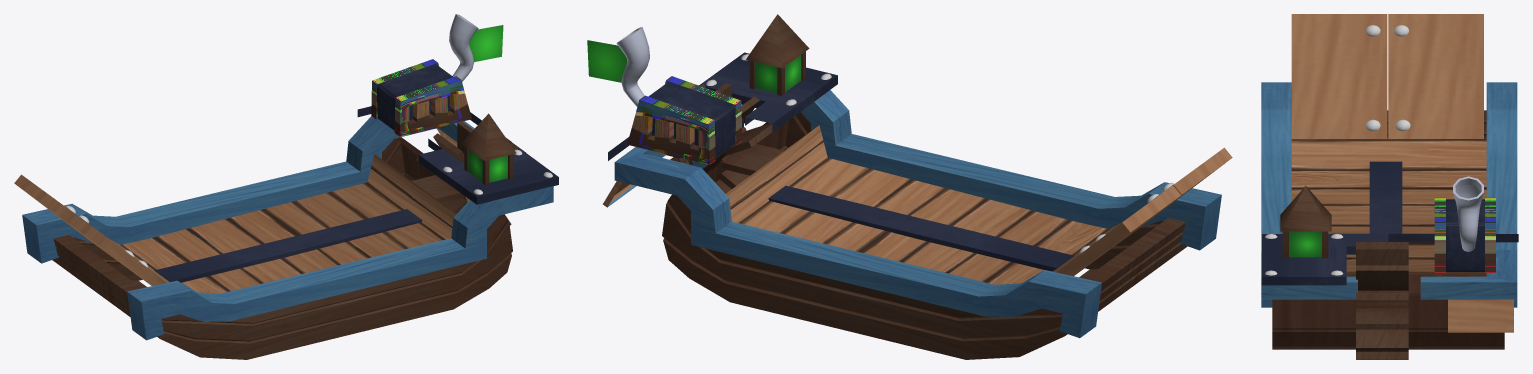
3 views of the same model, side by side, from view 1: azimuth 30°, elevation 25°; view 2: azimuth 150°, elevation 25°; view 3: azimuth 270°, elevation 25° (orthographic). The views are drawn at different scales.
Visible parts, largest first — view 1: Object25_ncl1_1, Object17_ncl1_1, Object27_ncl1_1, Object24_ncl1_1, Object13_ncl1_1, Box15_ncl1_1, Box20_ncl1_1, Box16_ncl1_1, Object28_ncl1_1, Object21_ncl1_1, Cylinder04_ncl1_1, Plane02_ncl1_1 (+2 smaller); view 2: Object25_ncl1_1, Object27_ncl1_1, Object17_ncl1_1, Object24_ncl1_1, Box17_ncl1_1, Object13_ncl1_1, Box20_ncl1_1, Object28_ncl1_1, Box16_ncl1_1, Object21_ncl1_1, Cylinder04_ncl1_1, Plane02_ncl1_1 (+2 smaller); view 3: Box20_ncl1_1, Object25_ncl1_1, Object27_ncl1_1, Object28_ncl1_1, Object17_ncl1_1, Object13_ncl1_1, Object24_ncl1_1, Object15_ncl1_1, Box16_ncl1_1, Object21_ncl1_1, Cylinder04_ncl1_1, Box15_ncl1_1 (+3 smaller).
Part boxes in pixels (x1,y1,x2,y2): Object25_ncl1_1: (52, 137, 512, 359); Object17_ncl1_1: (127, 186, 553, 340); Object27_ncl1_1: (22, 114, 474, 263); Object24_ncl1_1: (154, 209, 422, 282); Object13_ncl1_1: (418, 148, 558, 204); Box15_ncl1_1: (394, 76, 471, 136); Box20_ncl1_1: (14, 174, 166, 285); Box16_ncl1_1: (377, 64, 452, 130); Object28_ncl1_1: (411, 122, 525, 225); Object21_ncl1_1: (461, 113, 516, 185); Cylinder04_ncl1_1: (449, 14, 478, 81); Plane02_ncl1_1: (469, 25, 503, 61); Object25_ncl1_1: (662, 112, 1187, 359); Object27_ncl1_1: (614, 147, 1101, 338); Object17_ncl1_1: (801, 90, 1221, 250); Object24_ncl1_1: (768, 185, 1074, 271); Box17_ncl1_1: (627, 95, 715, 164); Object13_ncl1_1: (700, 52, 837, 132); Box20_ncl1_1: (1056, 147, 1232, 276); Object28_ncl1_1: (666, 83, 784, 193); Box16_ncl1_1: (648, 81, 735, 157); Object21_ncl1_1: (746, 14, 809, 80); Cylinder04_ncl1_1: (616, 27, 649, 106); Plane02_ncl1_1: (587, 40, 627, 82); Box20_ncl1_1: (1291, 14, 1483, 138); Object25_ncl1_1: (1272, 110, 1504, 349); Object27_ncl1_1: (1420, 82, 1517, 307); Object28_ncl1_1: (1356, 242, 1408, 359); Object17_ncl1_1: (1261, 82, 1357, 307); Object13_ncl1_1: (1261, 233, 1386, 285); Object24_ncl1_1: (1369, 161, 1402, 241); Object15_ncl1_1: (1448, 299, 1513, 332); Box16_ncl1_1: (1446, 199, 1484, 271); Object21_ncl1_1: (1280, 186, 1331, 231); Cylinder04_ncl1_1: (1453, 176, 1483, 251); Box15_ncl1_1: (1434, 197, 1445, 272).
Bounding box in the file's own units: 0.5785 × 0.2325 × 0.2488.
